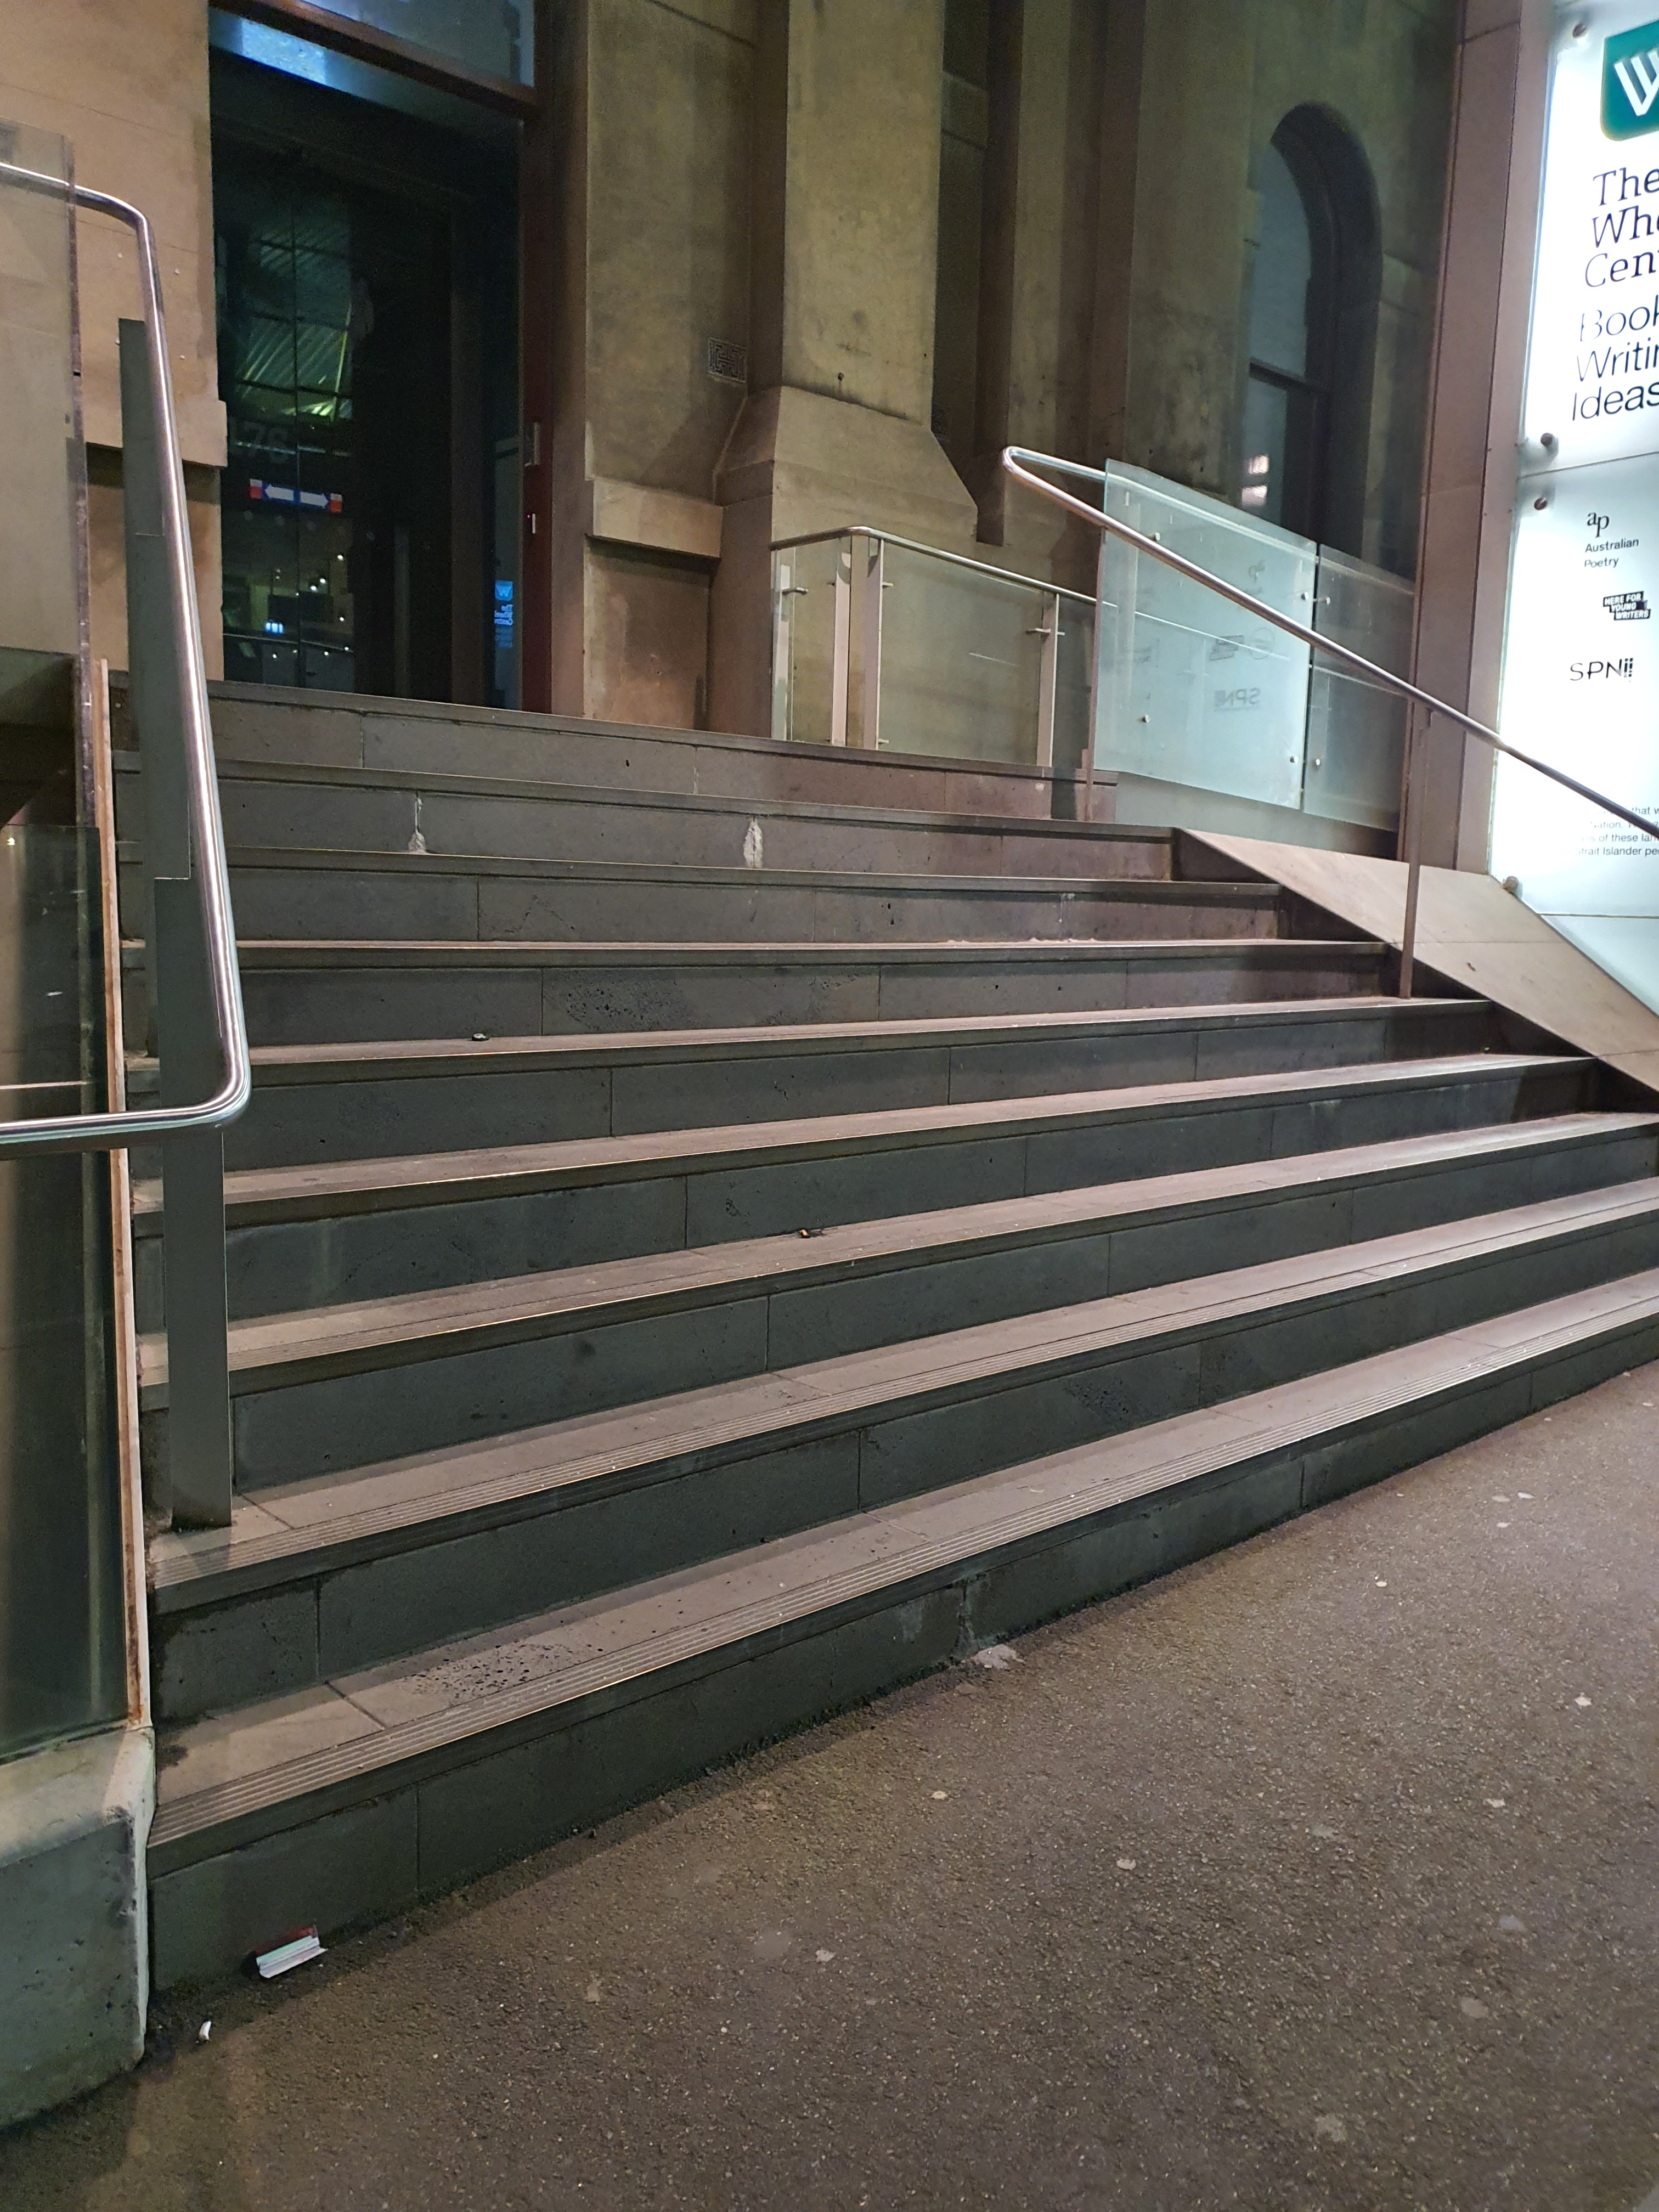upstairs: (235, 951, 1528, 1886)
